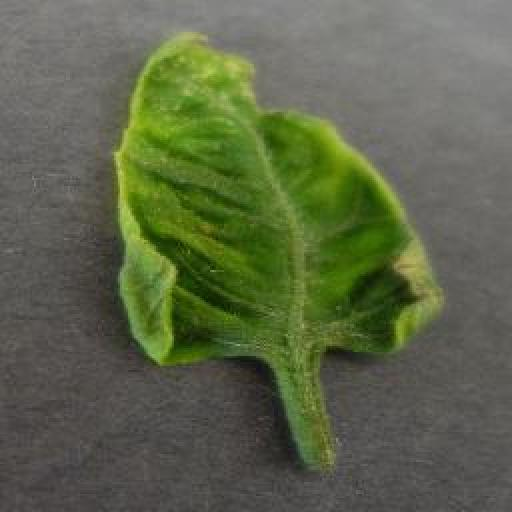Yellow Leaf Curl Virus: (114, 26, 443, 370)
